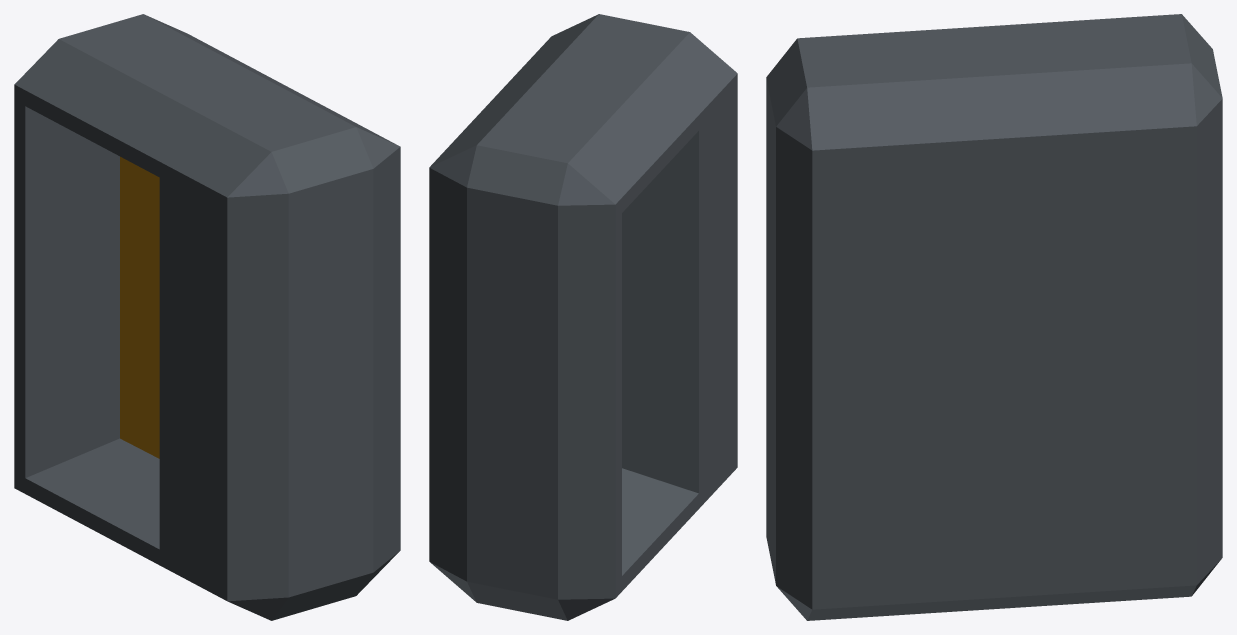
The model's file is Mothership_01_Detail_1_Yellow.fbx.
3 views of the same model, side by side, from view 1: azimuth 30°, elevation 25°; view 2: azimuth 150°, elevation 25°; view 3: azimuth 270°, elevation 25° (orthographic). The views are drawn at different scales.
Parts seen in each view (by area): view 1: Mothership_01_Detail_1_Yellow; view 2: Mothership_01_Detail_1_Yellow; view 3: Mothership_01_Detail_1_Yellow.
Boxes of the visible parts, x1,y1,x2,y2 form: Mothership_01_Detail_1_Yellow: (14,14,400,620); Mothership_01_Detail_1_Yellow: (429,14,737,620); Mothership_01_Detail_1_Yellow: (766,14,1222,620).
Size of the model in its own units: 157 by 311 by 241.
1 material, 1 textured.
